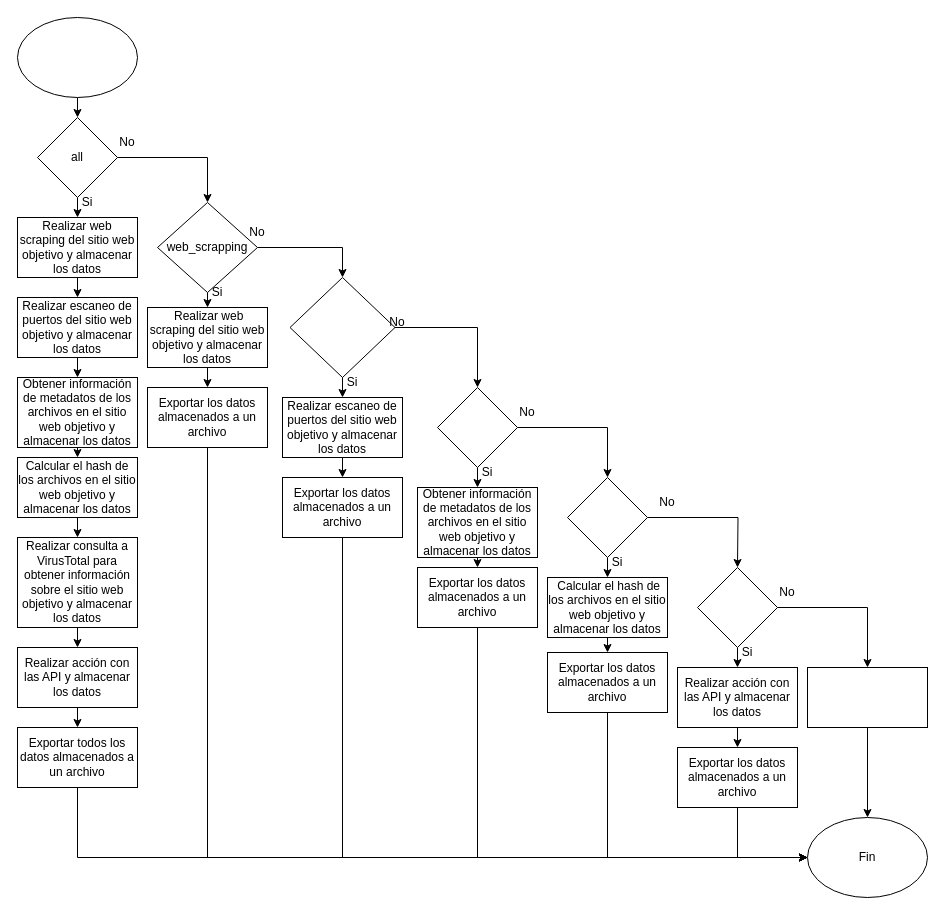
This 945x915 diagram has some shape labels left out. Each missing label, with the centre of its shape:
"Acción no válida" belongs at (867,697).
"api" belongs at (737,607).
"escaneo_puertos" belongs at (342,327).
"hash" belongs at (607,517).
"Inicio" belongs at (77,57).
"metadatos" belongs at (477,427).
